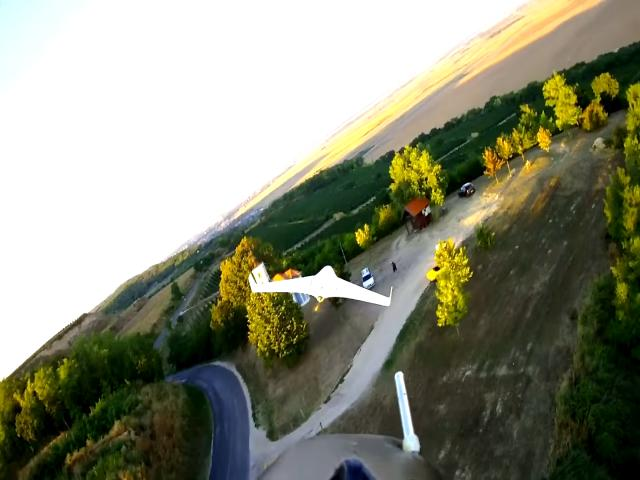plane: (248, 262, 394, 310)
